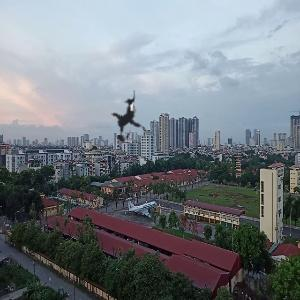drone: (86, 74, 176, 164)
